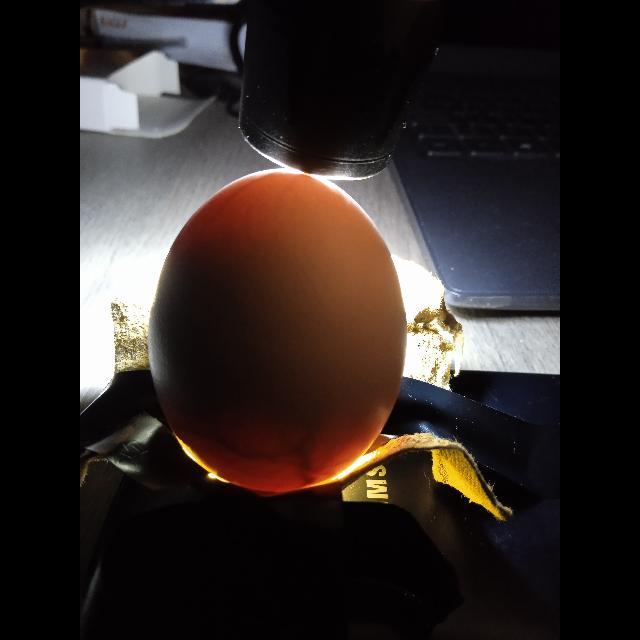Fertile: (148, 174, 404, 492)
